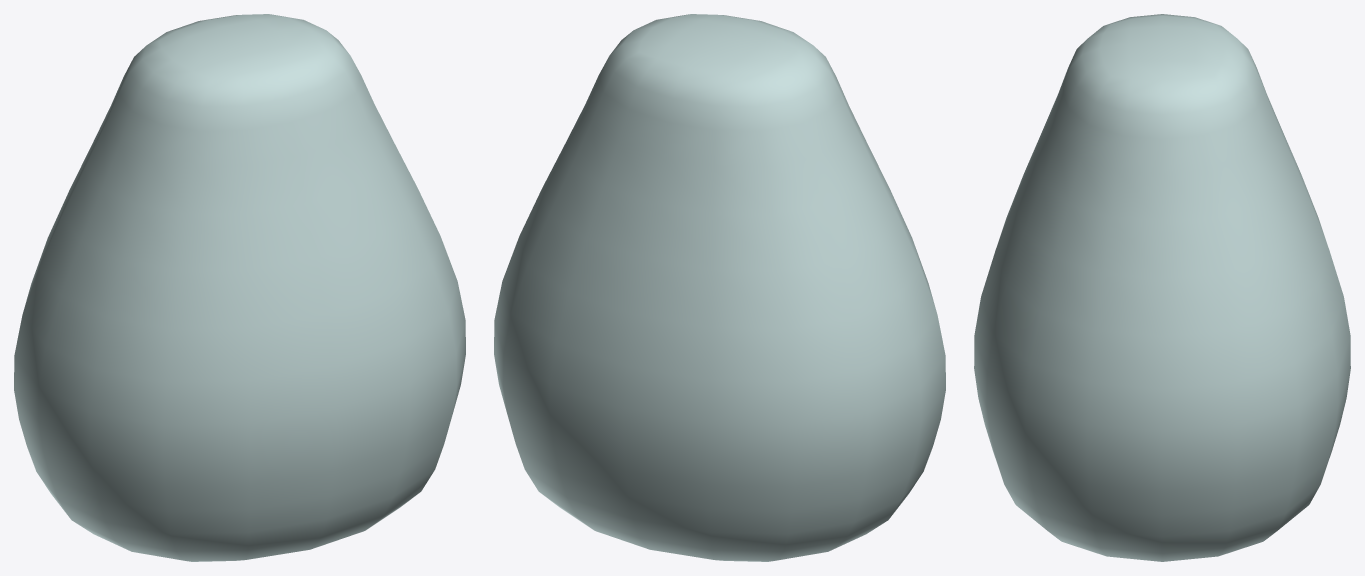
Rendered from Upright.fbx.
3 views of the same model, side by side, from view 1: azimuth 30°, elevation 25°; view 2: azimuth 150°, elevation 25°; view 3: azimuth 270°, elevation 25° (orthographic). The views are drawn at different scales.
Parts seen in each view (by area): view 1: Cube.048; view 2: Cube.048; view 3: Cube.048.
Boxes of the visible parts, left/top/right/bottom form: Cube.048: left=14, top=14, right=465, bottom=561; Cube.048: left=494, top=14, right=945, bottom=561; Cube.048: left=974, top=14, right=1350, bottom=561.
Size of the model in its own units: 328 by 379 by 272.
